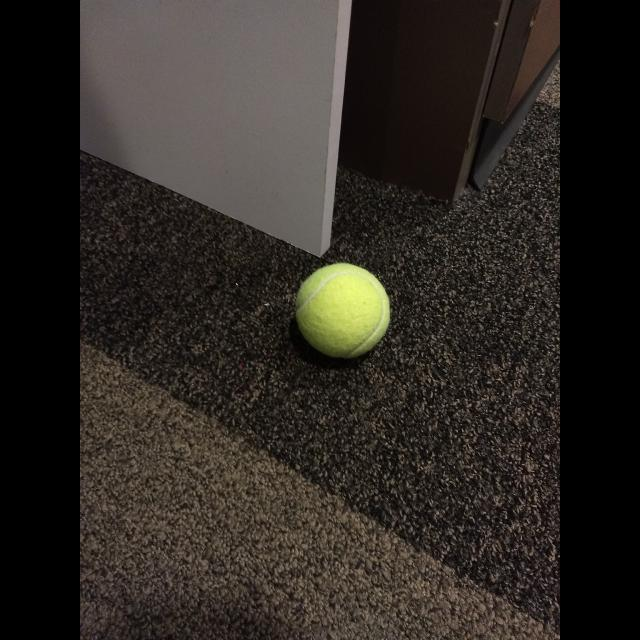tennis ball: (291, 260, 391, 362)
